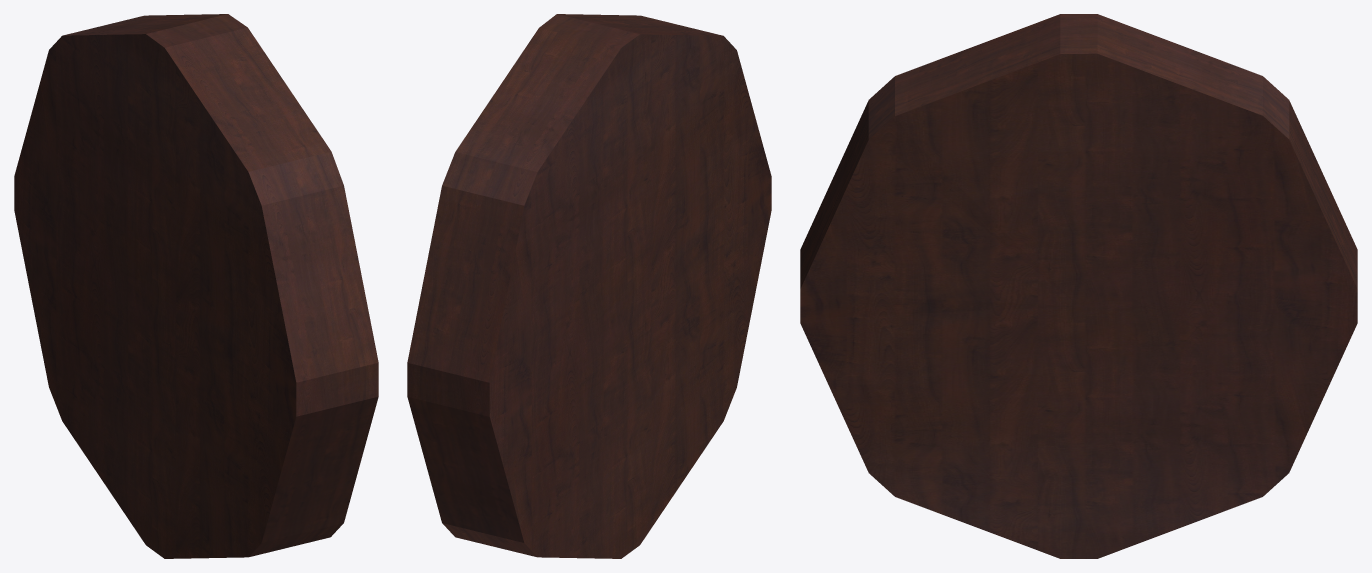
The model's file is EvilBoxPart2.FBX.
3 views of the same model, side by side, from view 1: azimuth 30°, elevation 25°; view 2: azimuth 150°, elevation 25°; view 3: azimuth 270°, elevation 25° (orthographic).
Parts seen in each view (by area): view 1: Spinner003; view 2: Spinner003; view 3: Spinner003.
Part boxes in pixels (bbox=[...]): Spinner003: bbox=[14, 14, 378, 558]; Spinner003: bbox=[407, 14, 771, 558]; Spinner003: bbox=[800, 14, 1357, 558].
Size of the model in its own units: 0.0387 by 0.2269 by 0.2269.
Materials: 1 (1 with a texture image).
